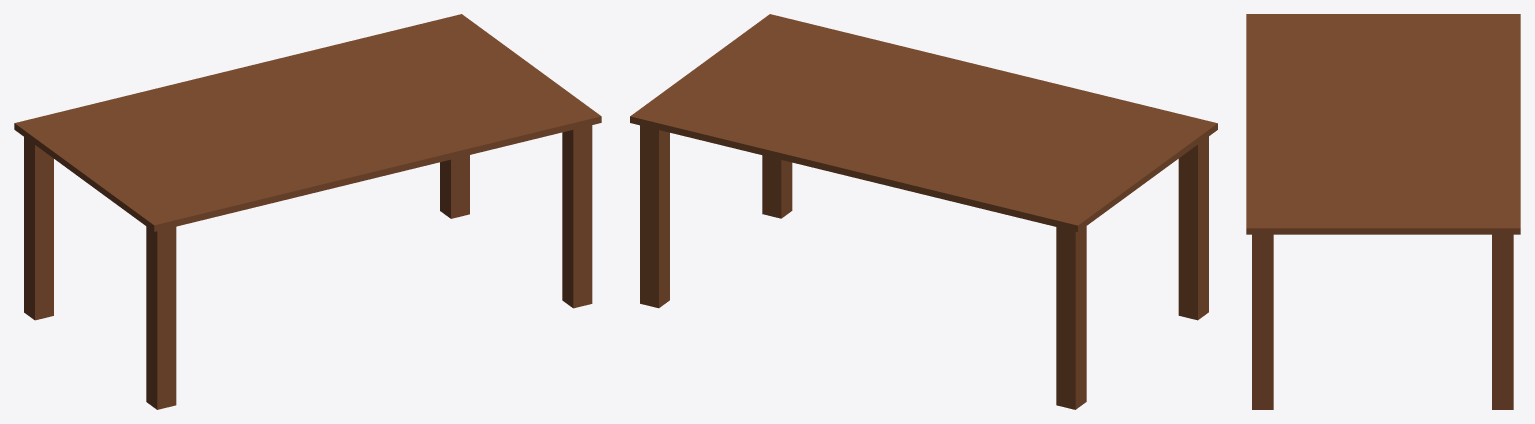
The model's file is Mesa.fbx.
3 views of the same model, side by side, from view 1: azimuth 30°, elevation 25°; view 2: azimuth 150°, elevation 25°; view 3: azimuth 270°, elevation 25° (orthographic).
Visible parts, largest first — view 1: Mesa; view 2: Mesa; view 3: Mesa.
Boxes of the visible parts, bbox=[...] form: Mesa: bbox=[14, 14, 601, 409]; Mesa: bbox=[630, 14, 1217, 409]; Mesa: bbox=[1246, 14, 1520, 409].
Size of the model in its own units: 128 by 51.53 by 69.34.
